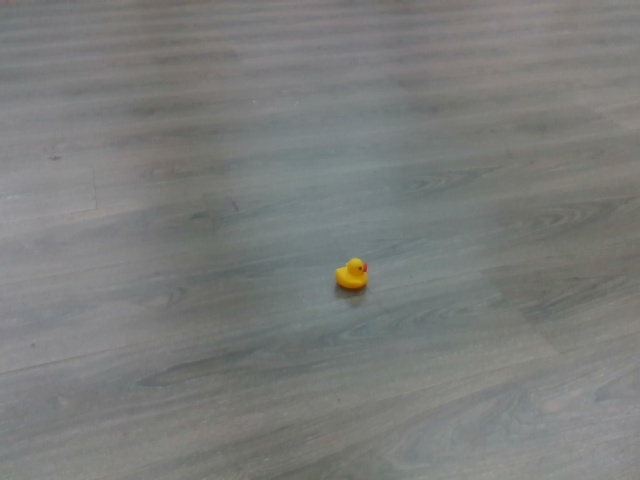duck: (333, 257, 372, 291)
